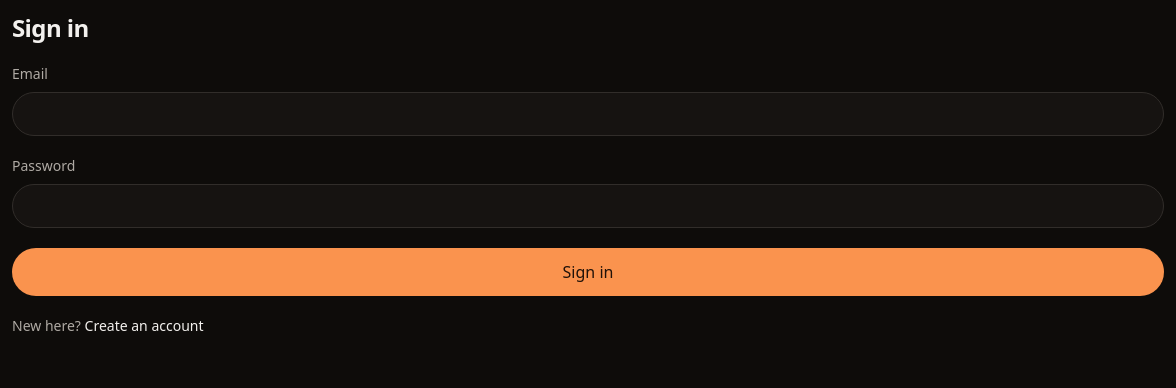
Test: AuthForm › explains USER_ALREADY_EXISTS_USE_ANOTHER_EMAIL and stays on the page
Type "me@example.com" into the field labelled "Email".
click(588, 114); type("me@example.com")  # box left=12, top=92, right=1164, bottom=136
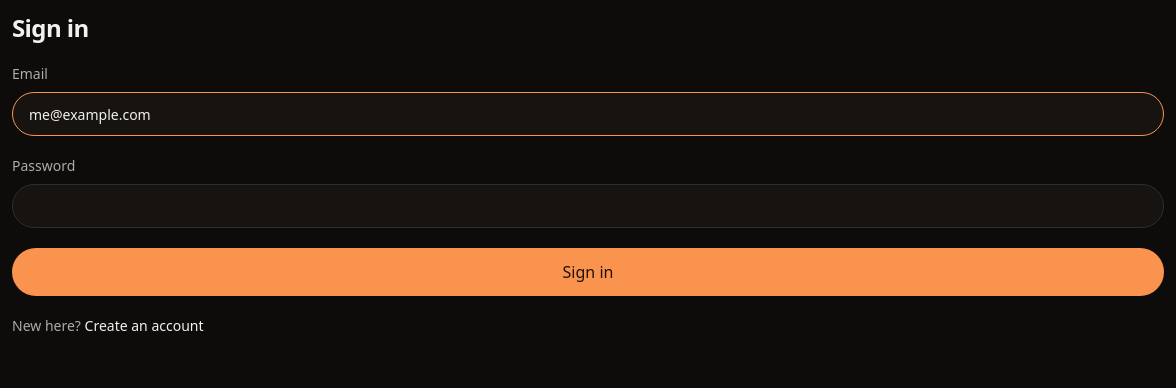
Type "longenough1" into the password field labelled "Password".
click(588, 206); type("longenough1")  # box left=12, top=184, right=1164, bottom=228
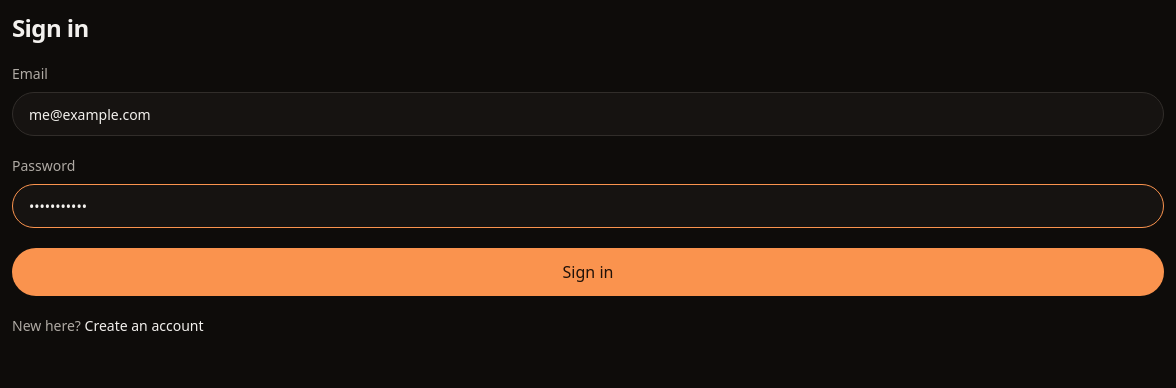
Click the button "Sign in".
click(588, 272)  # box left=12, top=248, right=1164, bottom=296
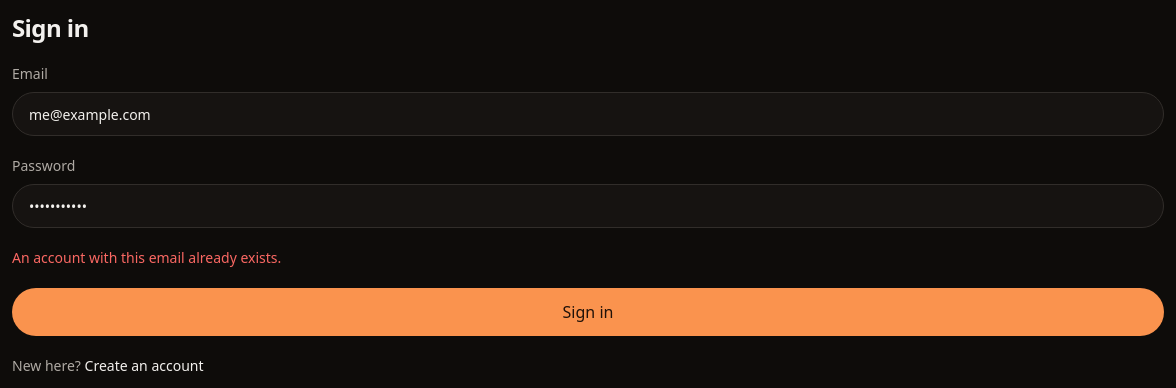
Check: the message reads "An account with this email already exists.", box left=12, top=248, right=281, bottom=267
